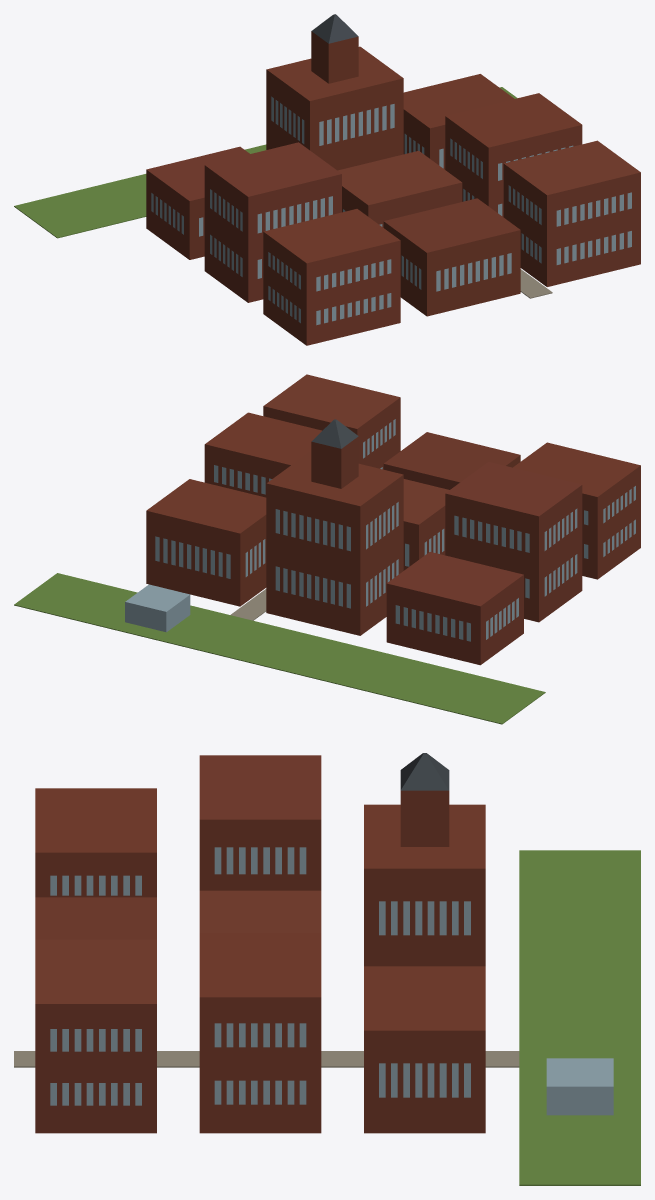
3 renders of one model, top to bottom at view 1: azimuth 30°, elevation 25°; view 2: azimuth 150°, elevation 25°; view 3: azimuth 270°, elevation 25°, orthographic. The views are drawn at different scales.
Visible parts, largest first — view 1: dumbo-lod2; view 2: dumbo-lod2; view 3: dumbo-lod2.
Part boxes in pixels (<box>): dumbo-lod2: <box>14,14,640,345</box>; dumbo-lod2: <box>14,374,640,724</box>; dumbo-lod2: <box>14,753,640,1185</box>.
Bounding box in the file's own units: 260 × 95.99 × 206.
